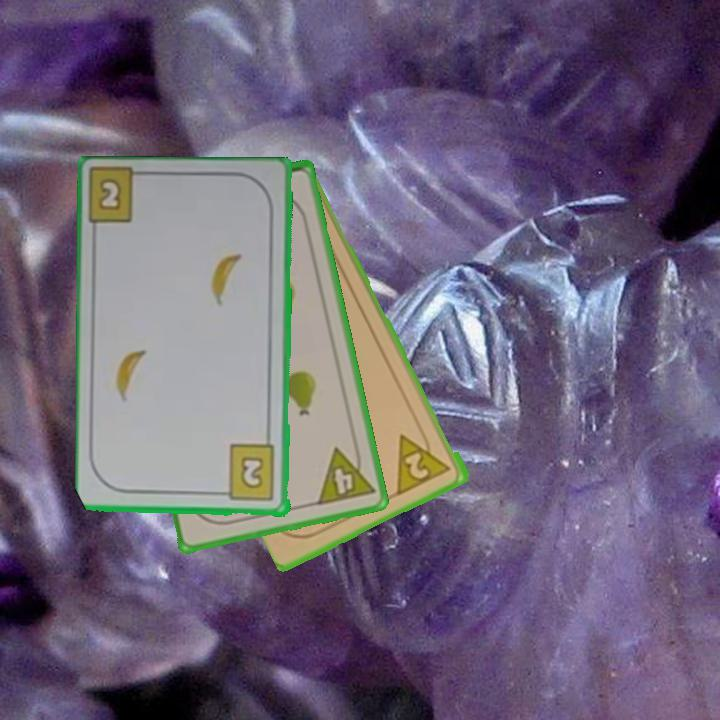2b: (216, 442, 279, 504), (95, 175, 125, 214)
2p: (393, 424, 456, 498)
4p: (313, 440, 378, 509)
